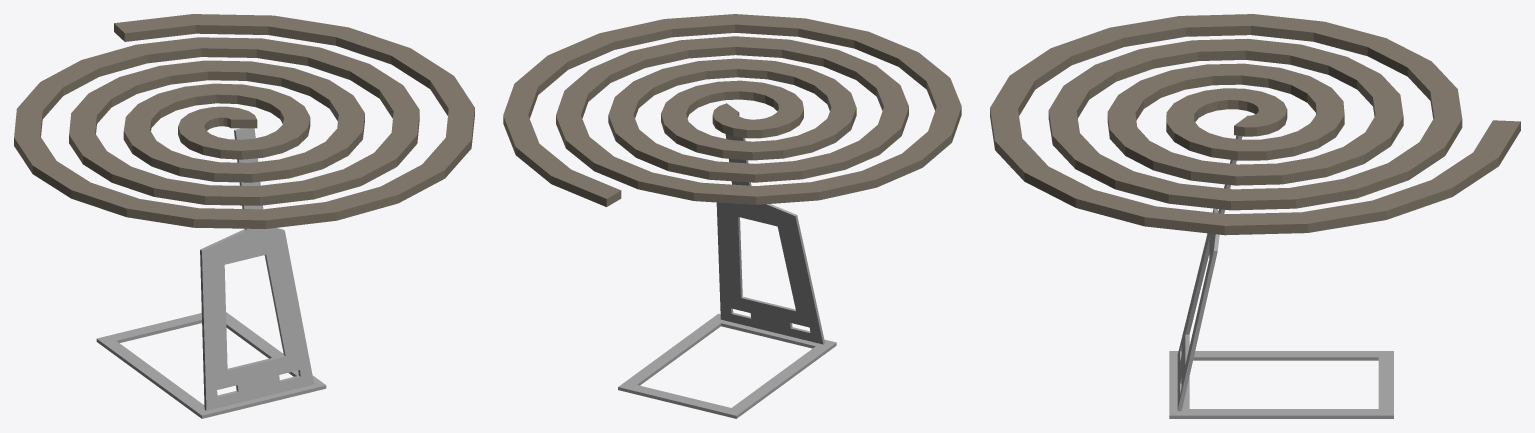
The model's file is NEW605_mosquito_coil_LOD2.glb.
3 renders of one model, left to right at view 1: azimuth 30°, elevation 25°; view 2: azimuth 150°, elevation 25°; view 3: azimuth 270°, elevation 25°, orthographic. The views are drawn at different scales.
Parts seen in each view (by area): view 1: Continuous_flat_coil, Folded_tapered_slotted_upright, Open_rectangular_base; view 2: Continuous_flat_coil, Folded_tapered_slotted_upright, Open_rectangular_base; view 3: Continuous_flat_coil, Open_rectangular_base, Folded_tapered_slotted_upright.
Boxes of the visible parts, x1,y1,x2,y2 form: Continuous_flat_coil: (14, 14, 474, 228); Folded_tapered_slotted_upright: (200, 128, 314, 410); Open_rectangular_base: (96, 312, 326, 418); Continuous_flat_coil: (503, 14, 961, 206); Folded_tapered_slotted_upright: (716, 117, 824, 344); Open_rectangular_base: (618, 313, 836, 418); Continuous_flat_coil: (990, 14, 1520, 235); Open_rectangular_base: (1169, 351, 1393, 418); Folded_tapered_slotted_upright: (1177, 135, 1242, 411).
Size of the model in its own units: 0.0983 by 0.059 by 0.104.
